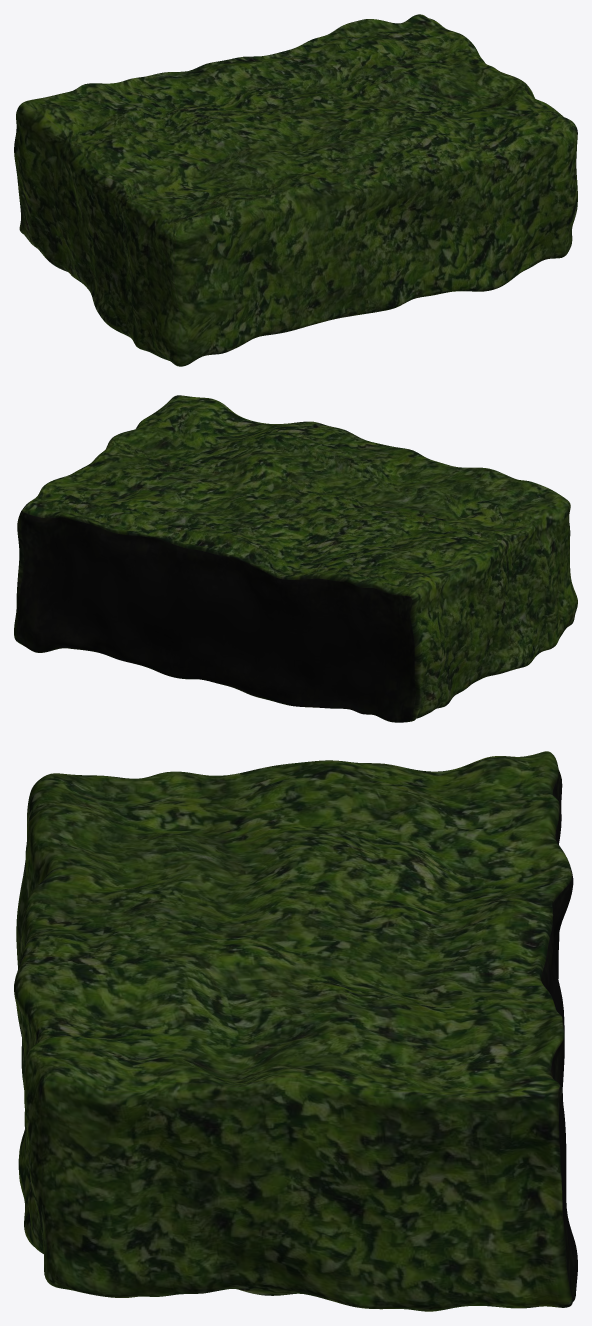
The model's file is hedge.gltf.
The picture shows the model from 3 angles, top to bottom: view 1: azimuth 30°, elevation 25°; view 2: azimuth 150°, elevation 25°; view 3: azimuth 270°, elevation 25°; orthographic projection. The views are drawn at different scales.
Parts seen in each view (by area): view 1: 10449_Rectangular_Box_Hedge_v1_iterations-2; view 2: 10449_Rectangular_Box_Hedge_v1_iterations-2; view 3: 10449_Rectangular_Box_Hedge_v1_iterations-2.
Part boxes in pixels (bbox=[...]): 10449_Rectangular_Box_Hedge_v1_iterations-2: bbox=[14, 14, 577, 366]; 10449_Rectangular_Box_Hedge_v1_iterations-2: bbox=[14, 395, 577, 722]; 10449_Rectangular_Box_Hedge_v1_iterations-2: bbox=[14, 751, 577, 1311].
Size of the model in its own units: 231 by 80.5 by 160.
Materials: 1 (1 with a texture image).
